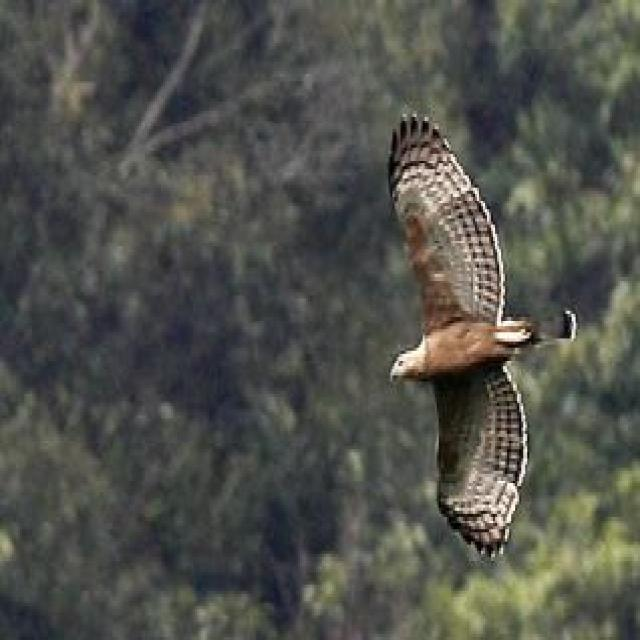Elang Jawa: (357, 99, 584, 578)
